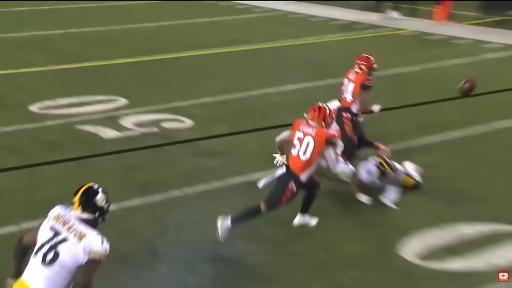Helmet: (74, 183, 110, 225), (307, 103, 334, 128), (355, 55, 376, 73), (378, 156, 396, 176)
Jersey: (20, 206, 109, 287), (288, 120, 337, 182), (357, 156, 422, 188), (340, 69, 371, 114)
Player: (217, 103, 338, 240), (8, 183, 110, 287), (328, 55, 389, 181), (331, 107, 390, 181), (351, 156, 422, 208), (327, 55, 381, 119)
